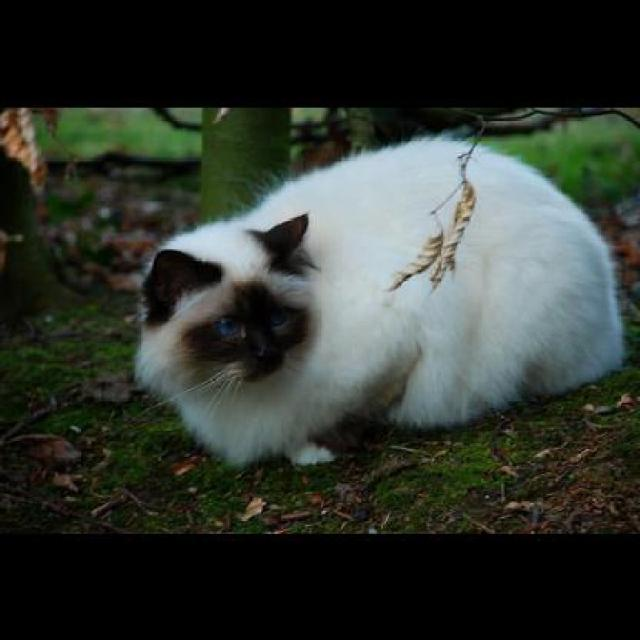unauthorized: (131, 128, 626, 469)
